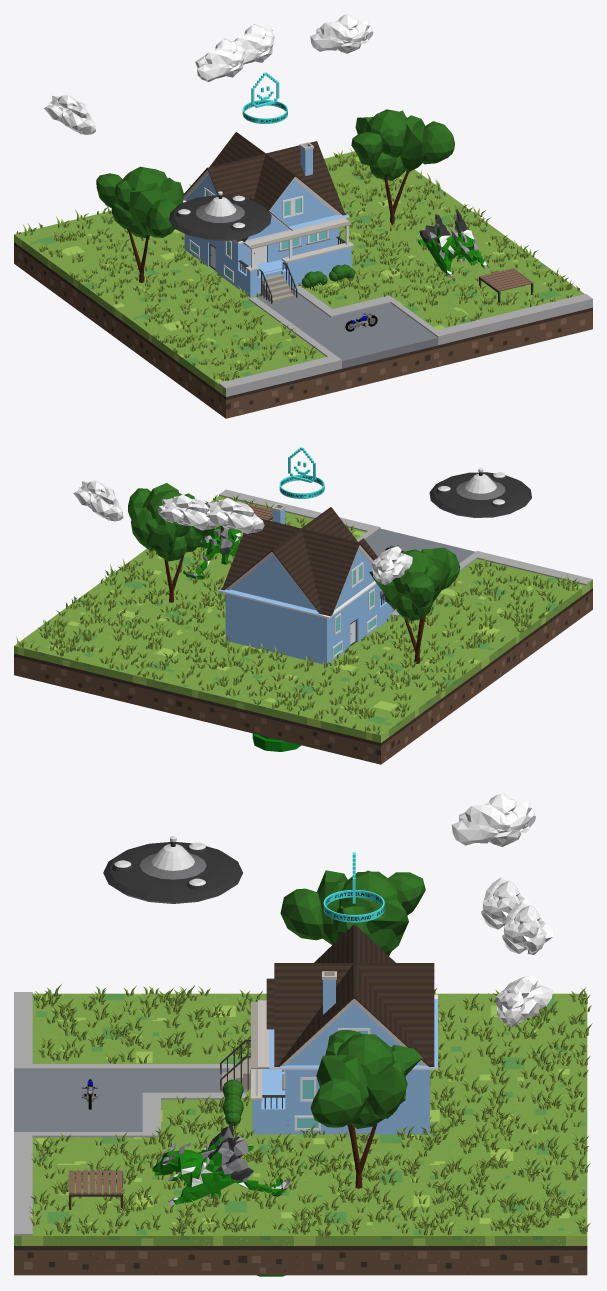
3 renders of one model, top to bottom at view 1: azimuth 30°, elevation 25°; view 2: azimuth 150°, elevation 25°; view 3: azimuth 270°, elevation 25°, orthographic. The views are drawn at different scales.
Visible parts, largest first — view 1: Cube.006, Circle.012_Grass_0.192, Cube.1594, Cube.007, tree, tree.001, OBJRANDOM_UFO, ANIMAL_DRAGON, TYPE_PREMIUM, Cube.009; view 2: Cube.006, Cube.1594, Circle.012_Grass_0.192, Cube.007, tree.001, tree, OBJRANDOM_UFO, ANIMAL_DRAGON, TYPE_PREMIUM, UNDERGROUND_PIPES; view 3: Cube.006, Circle.012_Grass_0.192, Cube.1594, tree, Cube.007, tree.001, OBJRANDOM_UFO, ANIMAL_DRAGON, Cube.009, TYPE_PREMIUM.
Part boxes in pixels (x1,y1,x2,y2): Cube.006: (14,151,592,418); Circle.012_Grass_0.192: (16,148,579,381); Cube.1594: (182,132,353,303); Cube.007: (44,14,373,134); tree: (351,109,454,225); tree.001: (96,166,183,282); OBJRANDOM_UFO: (169,191,271,240); ANIMAL_DRAGON: (418,209,489,277); TYPE_PREMIUM: (242,72,287,123); Cube.009: (479,268,533,302); Cube.006: (14,489,592,764); Cube.1594: (218,503,392,664); Circle.012_Grass_0.192: (16,495,579,734); Cube.007: (73,480,412,585); tree.001: (369,547,460,663); tree: (128,483,213,602); OBJRANDOM_UFO: (429,468,531,517); ANIMAL_DRAGON: (183,525,241,579); TYPE_PREMIUM: (279,447,324,498); UNDERGROUND_PIPES: (252,733,300,751); Cube.006: (14,992,587,1275); Circle.012_Grass_0.192: (29,984,592,1237); Cube.1594: (220,924,437,1134); tree: (310,1030,422,1188); Cube.007: (451,793,552,1026); tree.001: (280,870,425,955); OBJRANDOM_UFO: (103,836,242,903); ANIMAL_DRAGON: (152,1123,290,1204); Cube.009: (69,1170,122,1209); TYPE_PREMIUM: (323,852,384,922).
Bounding box in the file's own units: 4071 × 2884 × 4040.
35 materials, 4 textured.
